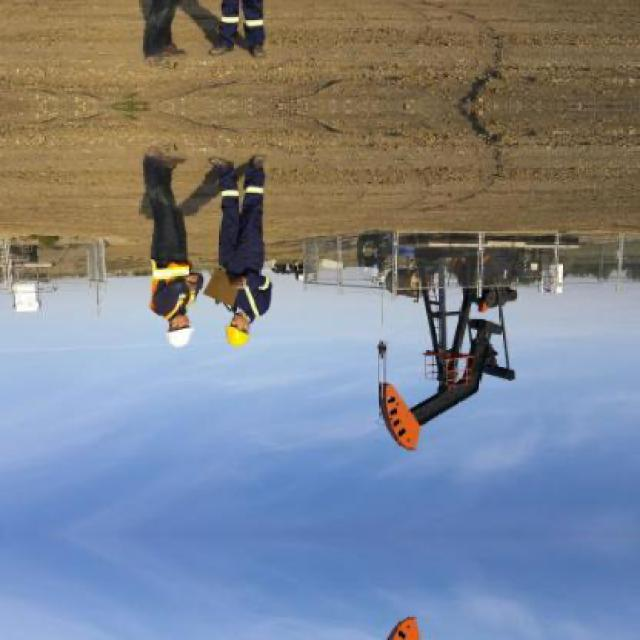con casco: (210, 286, 288, 364), (142, 284, 195, 362)
